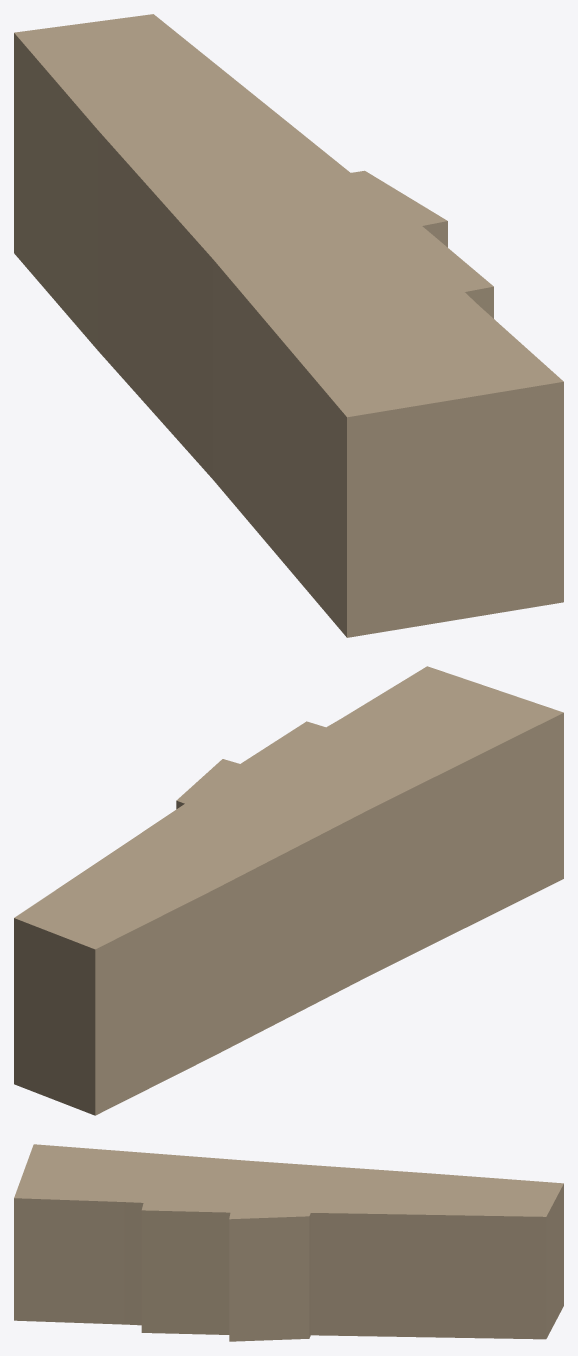
File: bld_98768087.dae
3 renders of one model, top to bottom at view 1: azimuth 30°, elevation 25°; view 2: azimuth 150°, elevation 25°; view 3: azimuth 270°, elevation 25°, orthographic. The views are drawn at different scales.
Visible parts, largest first — view 1: The White Horse; view 2: The White Horse; view 3: The White Horse.
Part boxes in pixels (box(x1,y1,x2,y2)): The White Horse: box(14, 14, 563, 637); The White Horse: box(14, 666, 563, 1115); The White Horse: box(14, 1144, 563, 1341).
Size of the model in its own units: 10.5 by 32.55 by 8.
